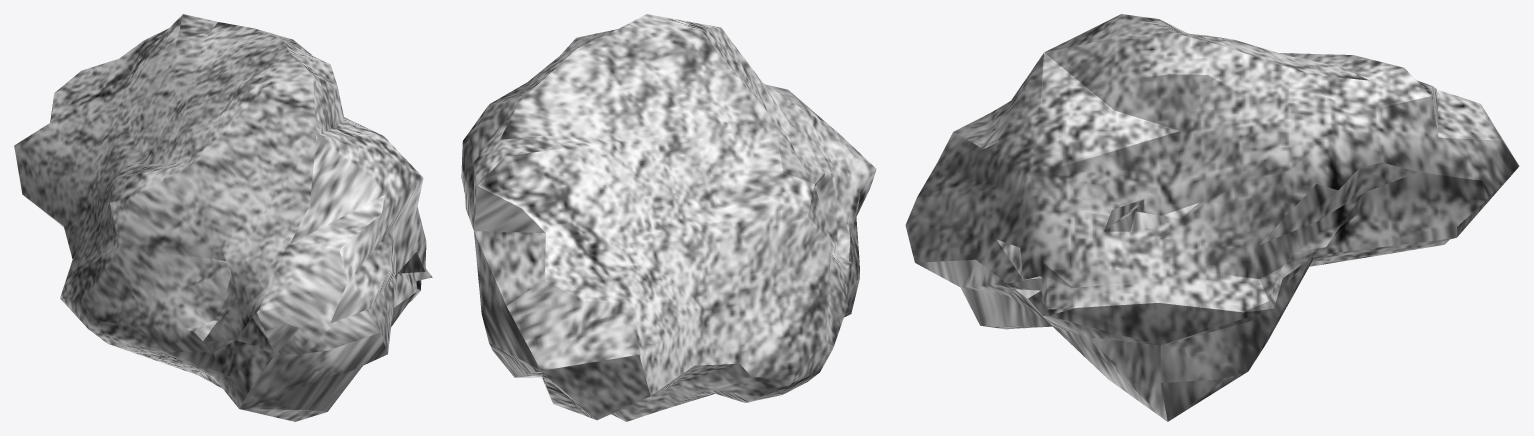
The model's file is Rock_Asset_17.fbx.
The picture shows the model from 3 angles, left to right: view 1: azimuth 30°, elevation 25°; view 2: azimuth 150°, elevation 25°; view 3: azimuth 270°, elevation 25°; orthographic projection. The views are drawn at different scales.
Parts seen in each view (by area): view 1: Rock_Asset; view 2: Rock_Asset; view 3: Rock_Asset.
Boxes of the visible parts, <box> form: Rock_Asset: <box>14,14,432,421</box>; Rock_Asset: <box>461,14,876,421</box>; Rock_Asset: <box>905,14,1519,421</box>.
Bounding box in the file's own units: 1.36 × 1.52 × 2.27.
Materials: 1 (1 with a texture image).
